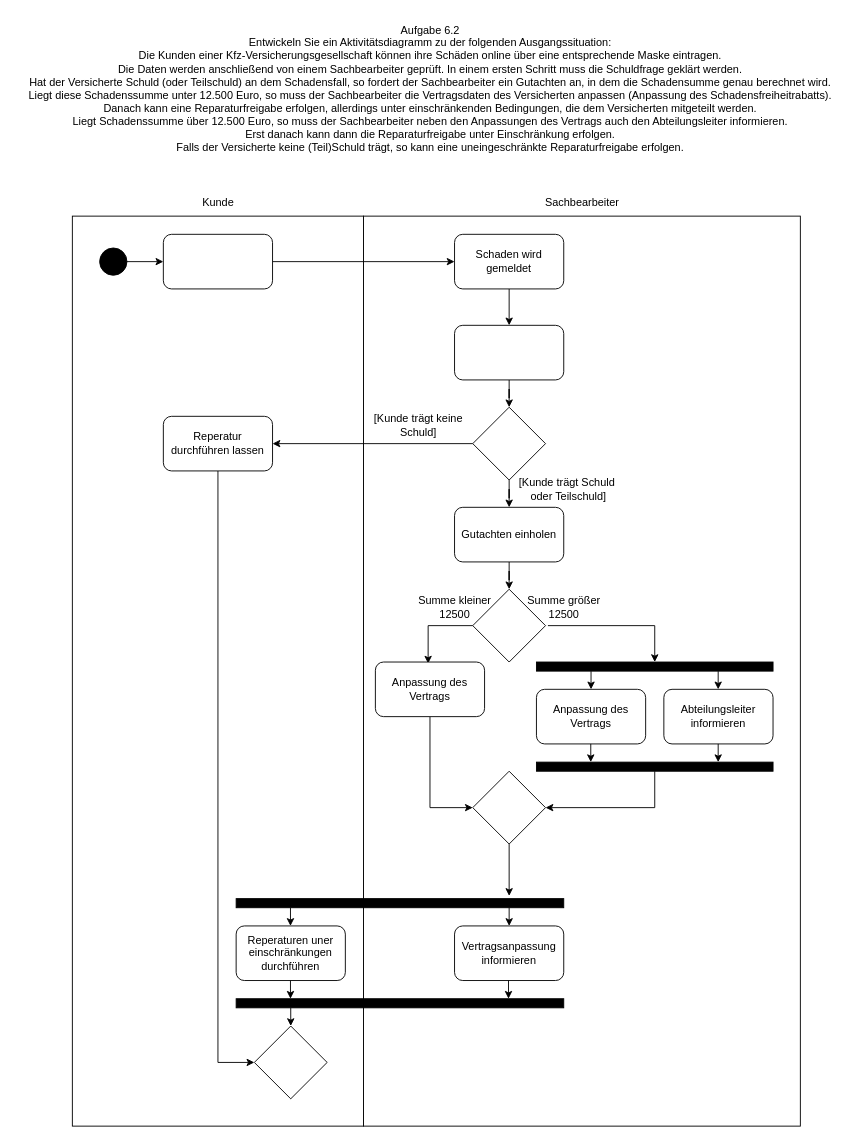
The diagram is 859 pixels wide and 1142 high, and some of its shapes have lost their labels. The box of each missing label's shape, as (x1, y1, x2, y2) in pixels:
Daten prüfen: (454, 324, 564, 380)
Online Programm starten: (162, 233, 273, 289)
